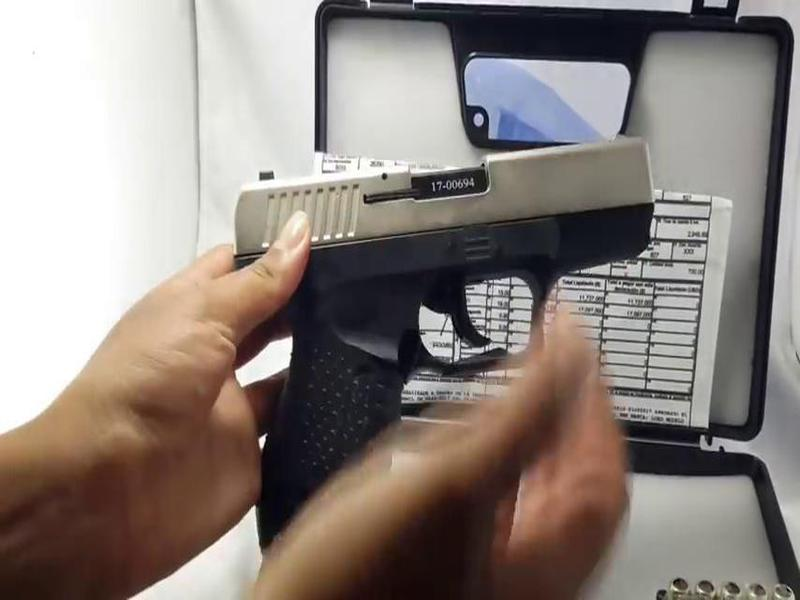Pistola: (175, 93, 731, 574)
